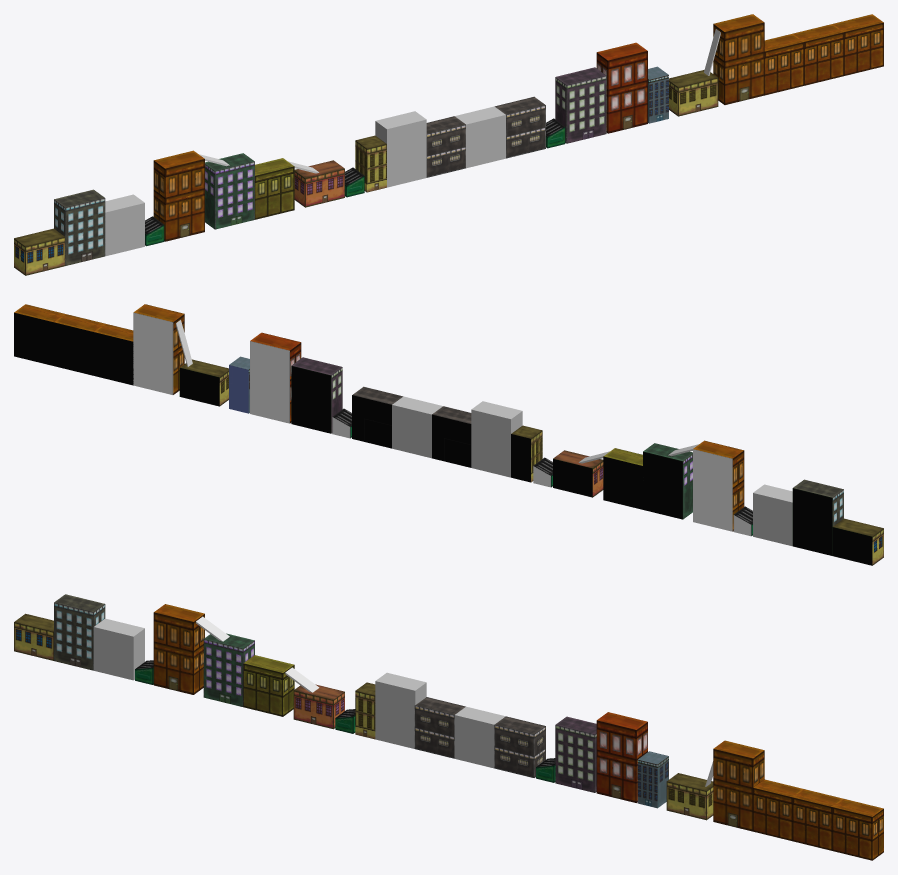
The model's file is Cityscape.FBX.
3 views of the same model, one above another, from view 1: azimuth 30°, elevation 25°; view 2: azimuth 150°, elevation 25°; view 3: azimuth 330°, elevation 25° (orthographic).
Parts seen in each view (by area): view 1: 4 - 17.5x10, 18 - 17.5x10, 14 - 17.5x10, 13 - 14x10, 5 - 14x10, 2 - 14x10, 9 - 14x10, 11 - 10.5x10, 12 - 10.5x10, 21 - 10.5x011, 20 - 10.5x011, 19 - 10.5x011 (+8 smaller); view 2: 4 - 17.5x10, 18 - 17.5x10, 14 - 17.5x10, 13 - 14x10, 5 - 14x10, 2 - 14x10, 9 - 14x10, 11 - 10.5x10, 12 - 10.5x10, 21 - 10.5x011, 20 - 10.5x011, 19 - 10.5x011 (+8 smaller); view 3: 4 - 17.5x10, 14 - 17.5x10, 18 - 17.5x10, 2 - 14x10, 9 - 14x10, 5 - 14x10, 13 - 14x10, 21 - 10.5x011, 6 - 10.5x10, 12 - 10.5x10, 3 - 10.5x10, 11 - 10.5x10 (+8 smaller).
Boxes of the visible parts, box(x1,y1,x2,y2) form: 4 - 17.5x10: box(153, 150, 204, 241); 18 - 17.5x10: box(713, 14, 764, 104); 14 - 17.5x10: box(596, 42, 647, 133); 13 - 14x10: box(555, 67, 606, 143); 5 - 14x10: box(205, 153, 254, 229); 2 - 14x10: box(54, 189, 105, 265); 9 - 14x10: box(375, 111, 426, 187); 11 - 10.5x10: box(455, 106, 505, 168); 12 - 10.5x10: box(495, 96, 545, 158); 21 - 10.5x011: box(833, 14, 883, 75); 20 - 10.5x011: box(793, 24, 843, 85); 19 - 10.5x011: box(764, 33, 804, 95); 4 - 17.5x10: box(693, 440, 744, 531); 18 - 17.5x10: box(133, 304, 184, 394); 14 - 17.5x10: box(250, 332, 301, 423); 13 - 14x10: box(291, 357, 342, 433); 5 - 14x10: box(643, 443, 692, 519); 2 - 14x10: box(792, 479, 843, 555); 9 - 14x10: box(471, 401, 522, 477); 11 - 10.5x10: box(392, 396, 442, 458); 12 - 10.5x10: box(352, 386, 402, 448); 21 - 10.5x011: box(14, 304, 64, 365); 20 - 10.5x011: box(54, 314, 104, 375); 19 - 10.5x011: box(93, 323, 133, 385); 4 - 17.5x10: box(153, 604, 204, 694); 14 - 17.5x10: box(596, 712, 647, 802); 18 - 17.5x10: box(713, 740, 764, 831); 2 - 14x10: box(54, 594, 105, 670); 9 - 14x10: box(375, 672, 426, 748); 5 - 14x10: box(203, 633, 254, 706); 13 - 14x10: box(555, 716, 596, 792); 21 - 10.5x011: box(832, 799, 883, 860); 6 - 10.5x10: box(243, 655, 294, 716); 12 - 10.5x10: box(494, 716, 545, 777); 3 - 10.5x10: box(93, 618, 144, 680); 11 - 10.5x10: box(454, 706, 505, 768).
Bounding box in the file's own units: 8476 × 689 × 198.
